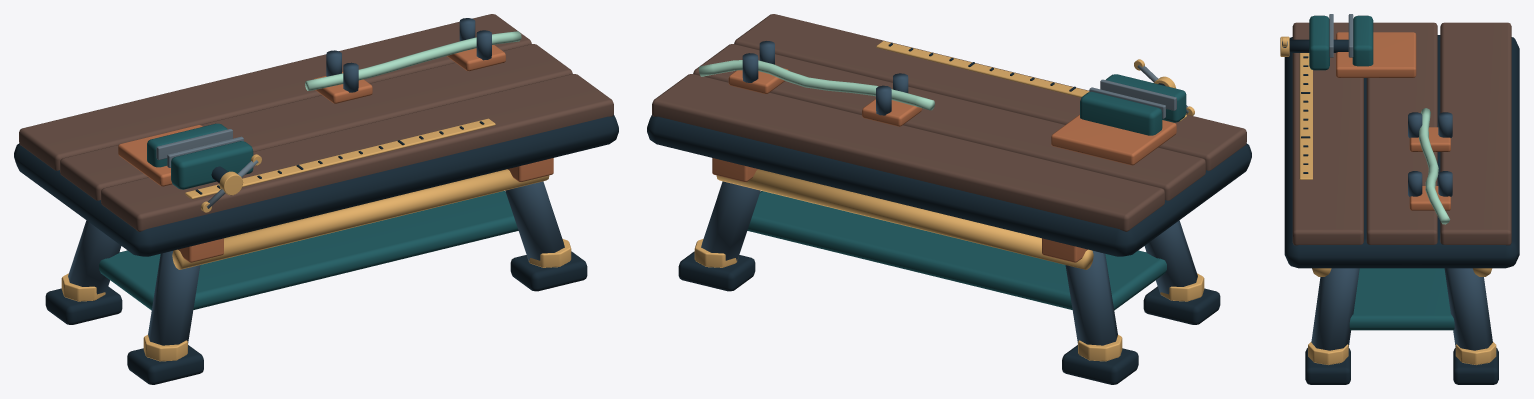
3 renders of one model, left to right at view 1: azimuth 30°, elevation 25°; view 2: azimuth 150°, elevation 25°; view 3: azimuth 270°, elevation 25°, orthographic. The views are drawn at different scales.
Visible parts, largest first — view 1: PR011 workshop assembly; view 2: PR011 workshop assembly; view 3: PR011 workshop assembly.
Part boxes in pixels (x1,y1,x2,y2): PR011 workshop assembly: (14, 14, 618, 384); PR011 workshop assembly: (647, 14, 1251, 384); PR011 workshop assembly: (1280, 14, 1519, 384).
Bounding box in the file's own units: 2.34 × 1 × 1.1.
